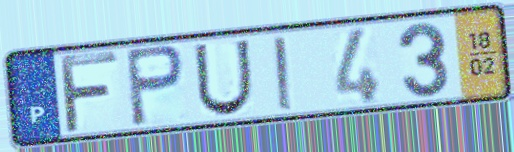3: (396, 19, 451, 100)
4: (332, 24, 384, 107)
F: (56, 49, 122, 137)
I: (271, 33, 298, 113)
P: (122, 42, 188, 129)
U: (191, 37, 255, 119)
